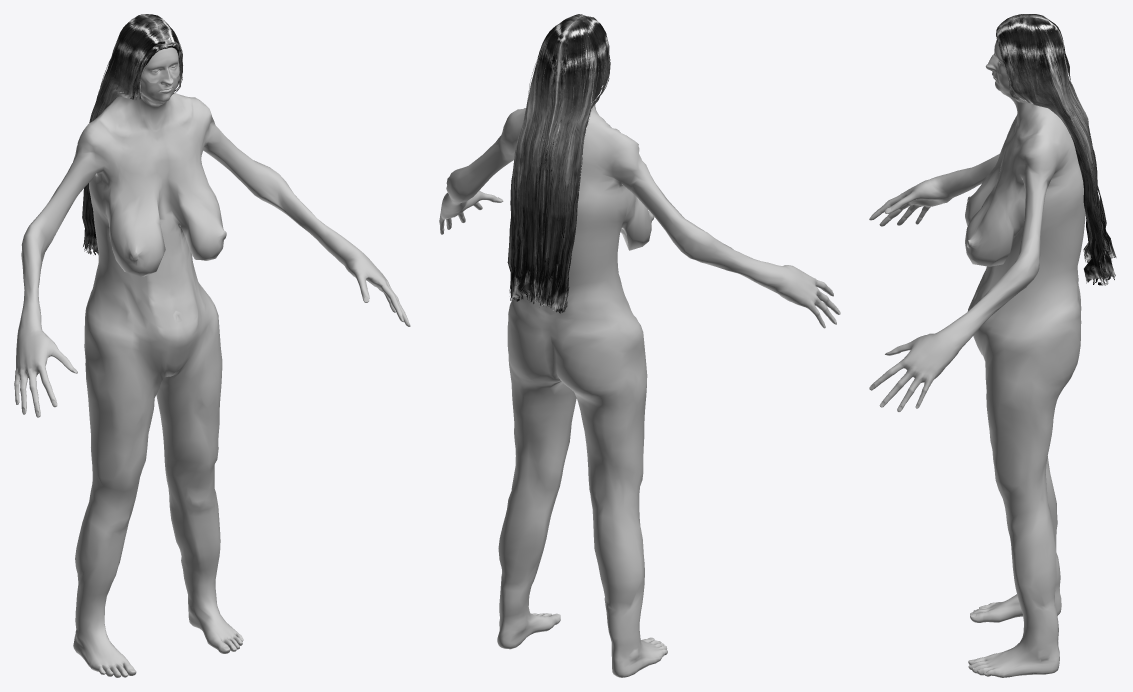
File: Mother.fbx
3 renders of one model, left to right at view 1: azimuth 30°, elevation 25°; view 2: azimuth 150°, elevation 25°; view 3: azimuth 270°, elevation 25°, orthographic.
Parts seen in each view (by area): view 1: female_muscle_13442Mesh, long01Mesh; view 2: female_muscle_13442Mesh, long01Mesh; view 3: female_muscle_13442Mesh, long01Mesh.
Boxes of the visible parts, <box> form: female_muscle_13442Mesh: <box>14,47,410,677</box>; long01Mesh: <box>82,14,183,254</box>; female_muscle_13442Mesh: <box>439,100,840,677</box>; long01Mesh: <box>507,14,610,313</box>; female_muscle_13442Mesh: <box>869,40,1085,677</box>; long01Mesh: <box>996,14,1116,285</box>.
Bounding box in the file's own units: 16.41 × 25.67 × 9.23.
